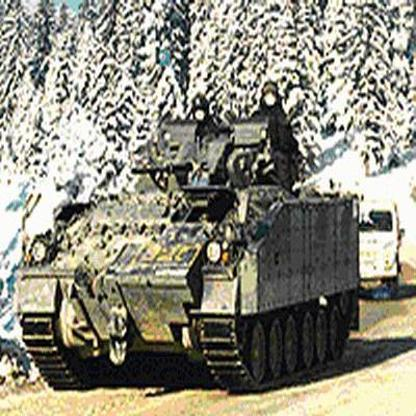Tank: (13, 82, 362, 384)
